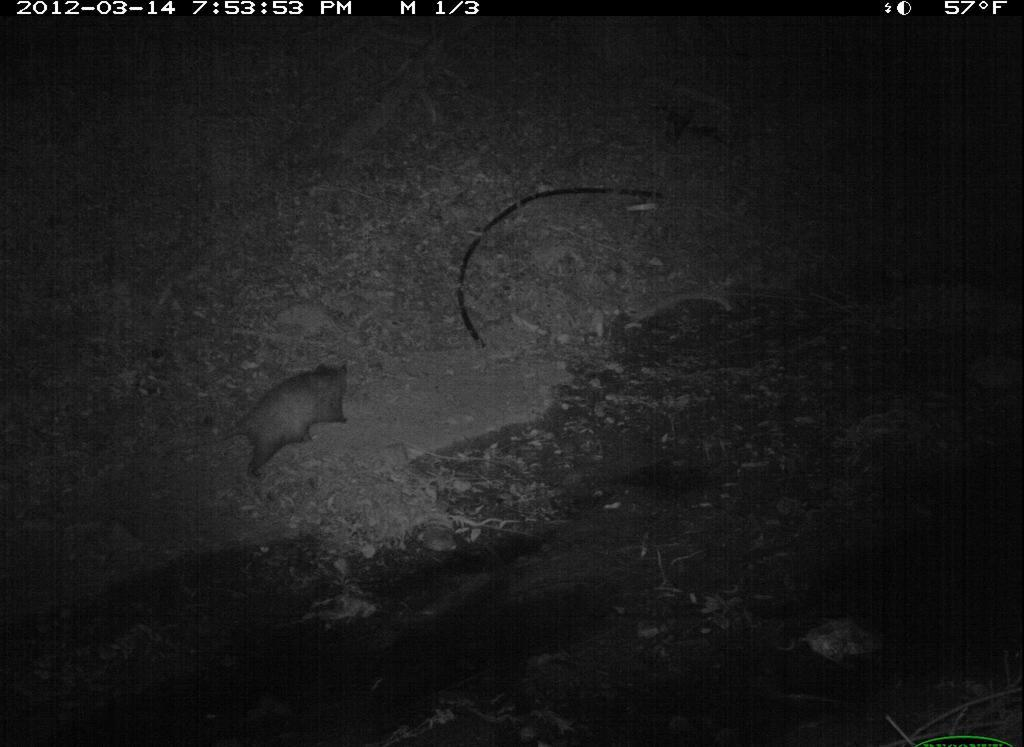opossum: (233, 351, 360, 477)
